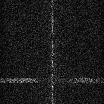wifi: (1, 77, 104, 83)
